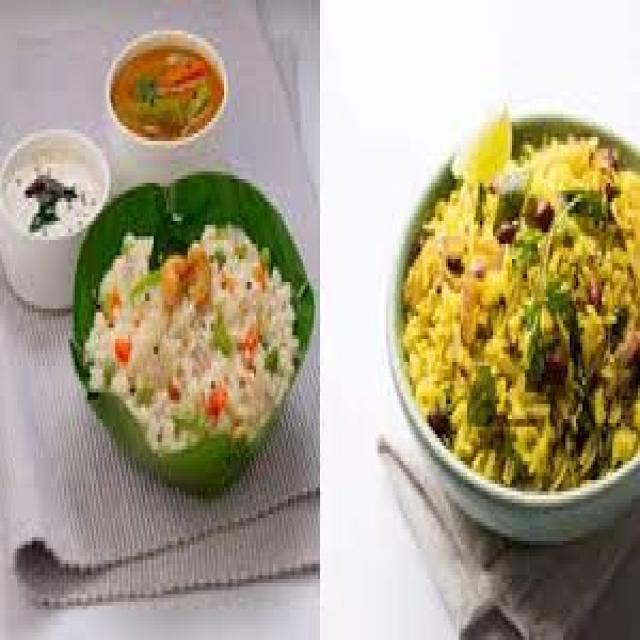POHA: (413, 137, 638, 473), (88, 231, 287, 452)
